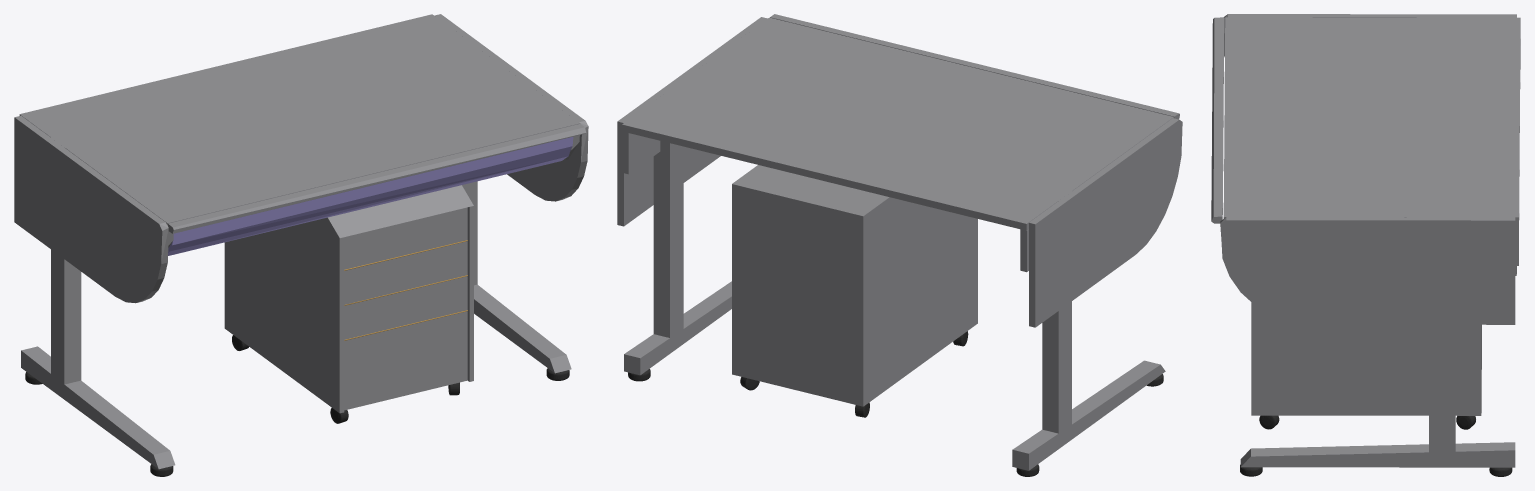
Rendered from Desk1.FBX.
3 views of the same model, side by side, from view 1: azimuth 30°, elevation 25°; view 2: azimuth 150°, elevation 25°; view 3: azimuth 270°, elevation 25° (orthographic).
Parts seen in each view (by area): view 1: Rectangle4, Rectangle3, Rectangle0, Arc038, Line196, Line195, Rectangle2, Line193, Line194, Shape012; view 2: Rectangle4, Rectangle3, Rectangle0, Line194, Line196, Rectangle2, Line195, Line193; view 3: Rectangle4, Rectangle2, Rectangle3, Line193, Line194, Rectangle0.
Part boxes in pixels (x1,y1,x2,y2): Rectangle4: (19, 14, 586, 247); Rectangle3: (224, 185, 473, 413); Rectangle0: (14, 115, 168, 303); Arc038: (168, 137, 573, 255); Line196: (51, 133, 81, 399); Line195: (21, 346, 175, 469); Rectangle2: (434, 14, 588, 201); Line193: (474, 284, 571, 373); Line194: (447, 37, 477, 285); Shape012: (344, 240, 467, 340); Rectangle4: (622, 14, 1179, 272); Rectangle3: (732, 165, 977, 406); Rectangle0: (1029, 118, 1182, 327); Line194: (653, 92, 683, 337); Line196: (1042, 187, 1071, 448); Rectangle2: (617, 17, 767, 226); Line195: (1012, 360, 1165, 470); Line193: (624, 281, 731, 375); Rectangle4: (1211, 17, 1520, 265); Rectangle2: (1220, 217, 1515, 324); Rectangle3: (1251, 302, 1481, 415); Line193: (1240, 442, 1515, 467); Line194: (1429, 209, 1455, 465); Rectangle0: (1224, 14, 1516, 57).
Bounding box in the file's own units: 12.74 × 7.5 × 8.06.
